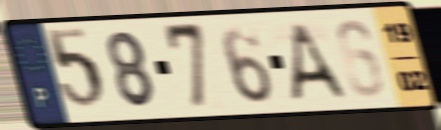5: (43, 25, 109, 118)
6: (219, 22, 276, 106), (334, 17, 386, 101)
7: (159, 21, 211, 114)
8: (105, 29, 158, 110)
A: (288, 19, 350, 104)
